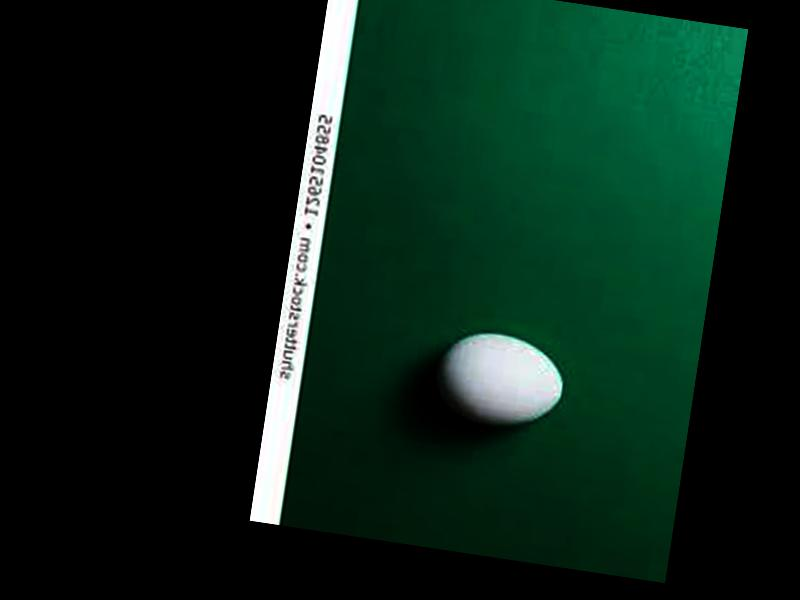Eggs: (430, 321, 569, 431)
